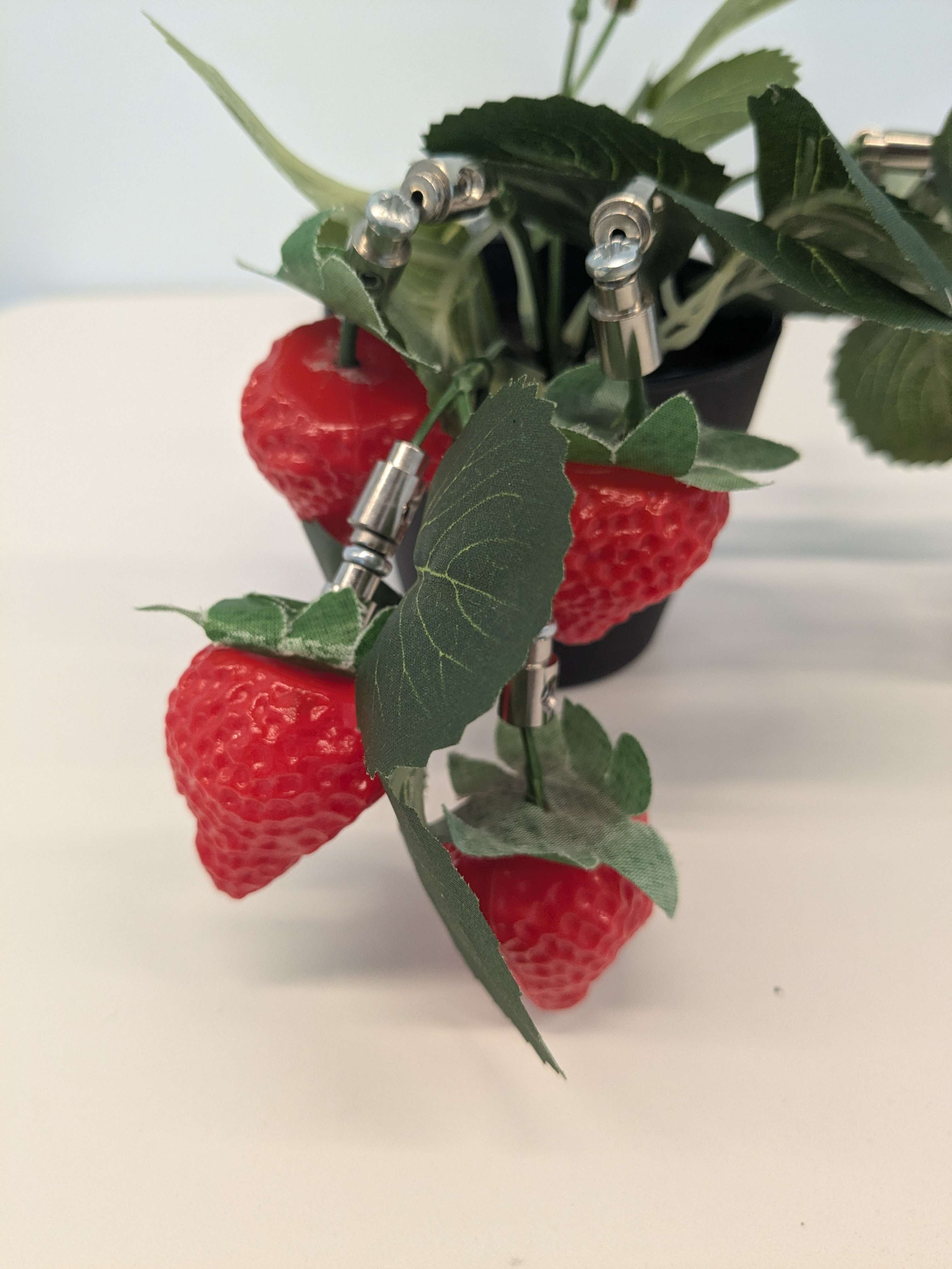Strawberry: (124, 576, 400, 939), (193, 281, 464, 527), (427, 802, 670, 1038), (511, 420, 735, 670)
